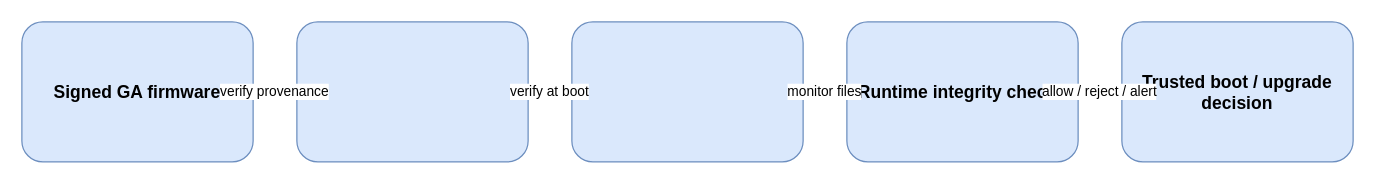
The diagram is 1375 pixels wide and 184 high, and some of its shapes have lost their labels. Here are the shapes that lost their labels. From the top down, the box of each, then its label:
(296, 21, 528, 162): Signature verification
(571, 21, 803, 162): Boot-critical file hashes
